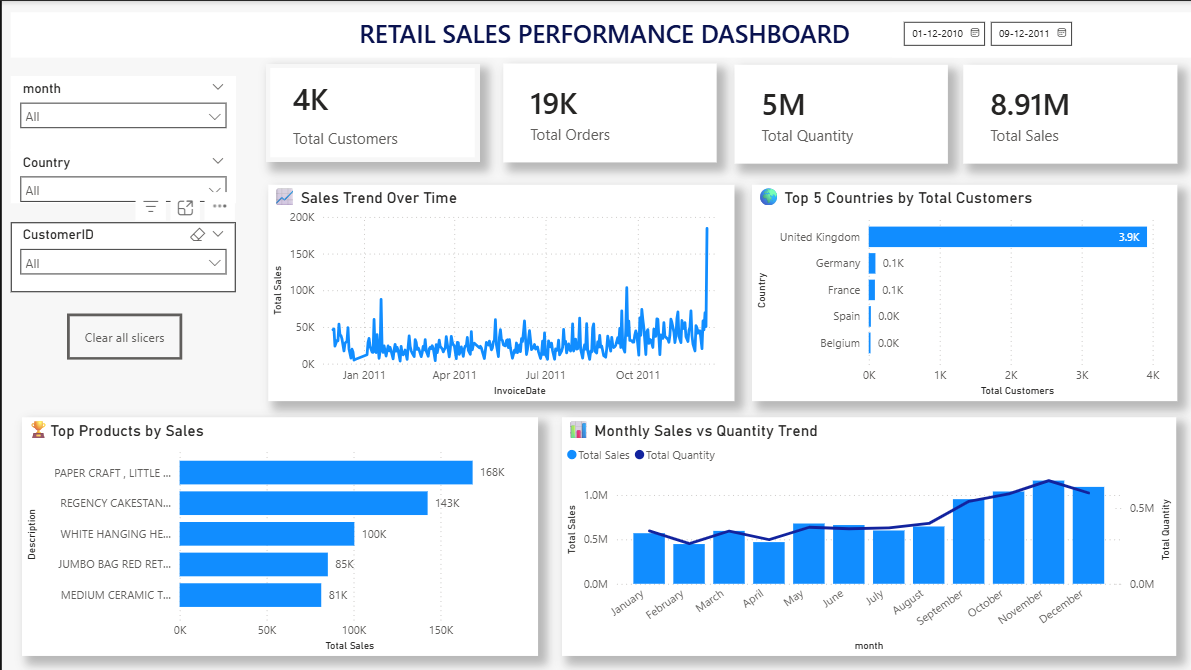

This screenshot's page, from the dashboard's own definition file:
{"tool":"powerbi","page":{"name":"Page 1","canvas":[1280,720],"ordinal":0},"visuals":[{"type":"textbox","box":[9.8,12.6,1270.2,48.9],"z":0},{"type":"lineChart","title":"📈 Sales Trend Over Time","fields":{"Category":["demo onlineretail.InvoiceDate"],"Y":["demo onlineretail.total sales"]},"box":[286.2,197.6,501.2,232.5],"z":1000},{"type":"clusteredBarChart","title":"🏆Top Products by Sales","fields":{"Category":["demo onlineretail.Description"],"Y":["demo onlineretail.Total Sales"]},"box":[21.8,447.5,555,257.2],"z":2000},{"type":"cardVisual","fields":{"Data":["demo onlineretail.total customers"]},"box":[283.3,66.8,230,106.1],"z":3000},{"type":"cardVisual","fields":{"Data":["demo onlineretail.total orders"]},"box":[539,66.8,229.6,106.1],"z":4000},{"type":"cardVisual","fields":{"Data":["demo onlineretail.total quantity"]},"box":[787.5,68.3,229.6,106.1],"z":5000},{"type":"cardVisual","fields":{"Data":["demo onlineretail.total sales"]},"box":[1034.5,68.3,230,106.1],"z":6000},{"type":"slicer","title":"Total Sales and Quantity by Month","fields":{"Values":["demo onlineretail.InvoiceDate"]},"box":[957.6,12.6,202.4,48.9],"z":7000},{"type":"slicer","fields":{"Values":["demo onlineretail.month"]},"box":[9.1,80.2,242,80.2],"z":8000},{"type":"slicer","fields":{"Values":["demo onlineretail.Country"]},"box":[9.1,160.3,242,57.5],"z":9000},{"type":"slicer","fields":{"Values":["demo onlineretail.CustomerID"]},"box":[9.1,237.5,242,75.6],"z":10000},{"type":"clusteredBarChart","title":"🌍 Top 5 Countries by Total Customers","fields":{"Category":["demo onlineretail.Country"],"Y":["demo onlineretail.Total Customers"]},"box":[806.4,197.6,457.7,232.5],"z":11000},{"type":"lineStackedColumnComboChart","title":"📊 Monthly Sales vs Quantity Trend","fields":{"Category":["demo onlineretail.month"],"Y":["demo onlineretail.Total Sales"],"Y2":["demo onlineretail.Total Quantity"]},"box":[603,447.5,661.1,257.2],"z":12000},{"type":"actionButton","title":"CLEAR","box":[69.6,335.8,124,49.9],"z":13000}]}

Visuals, with their boxes in screenshot pixels (x1, y1, x2, y2), scaled from the page's 1280x720 canvas onto the 1191x670 screenshot:
textbox: [9, 12, 1190, 57]
"📈 Sales Trend Over Time" lineChart: [266, 184, 733, 400]
"🏆Top Products by Sales" clusteredBarChart: [20, 416, 537, 656]
cardVisual - demo onlineretail.total customers: [264, 62, 478, 161]
cardVisual - demo onlineretail.total orders: [502, 62, 715, 161]
cardVisual - demo onlineretail.total quantity: [733, 64, 946, 162]
cardVisual - demo onlineretail.total sales: [963, 64, 1177, 162]
"Total Sales and Quantity by Month" slicer: [891, 12, 1079, 57]
slicer - demo onlineretail.month: [8, 75, 234, 149]
slicer - demo onlineretail.Country: [8, 149, 234, 203]
slicer - demo onlineretail.CustomerID: [8, 221, 234, 291]
"🌍 Top 5 Countries by Total Customers" clusteredBarChart: [750, 184, 1176, 400]
"📊 Monthly Sales vs Quantity Trend" lineStackedColumnComboChart: [561, 416, 1176, 656]
"CLEAR" actionButton: [65, 312, 180, 359]
